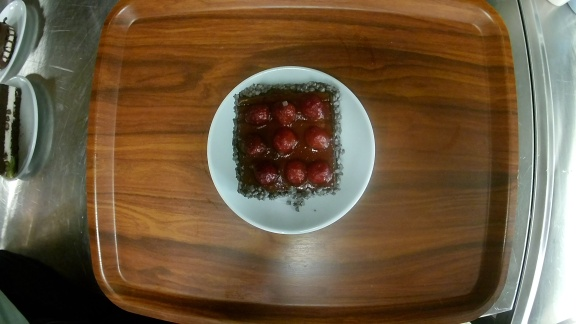cileklipasta: (205, 65, 377, 233)
